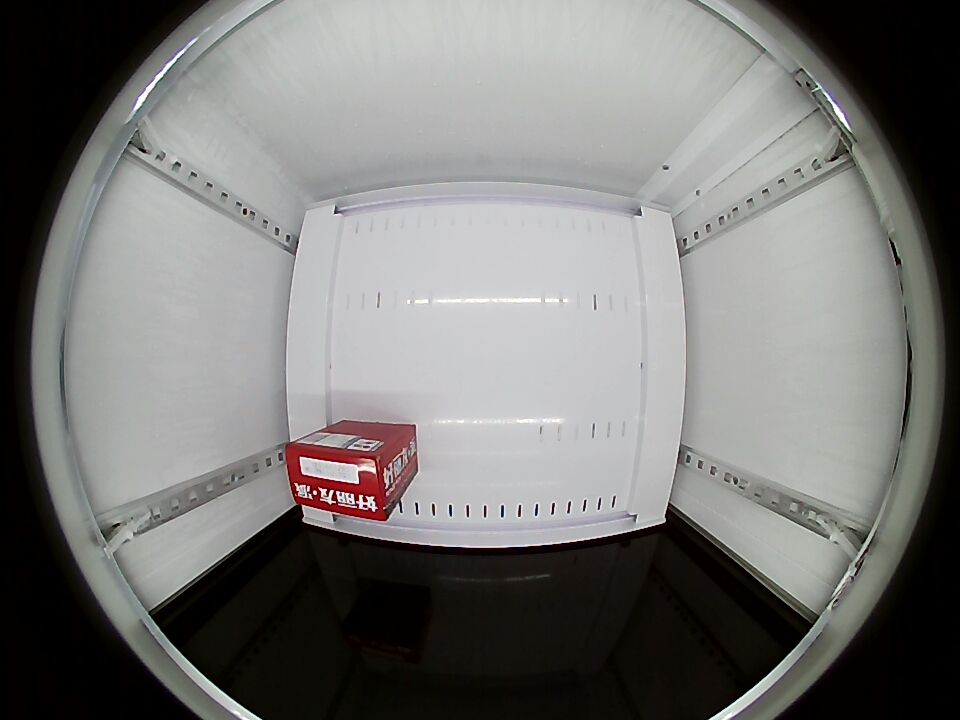haoliyou: (285, 429, 402, 522)
